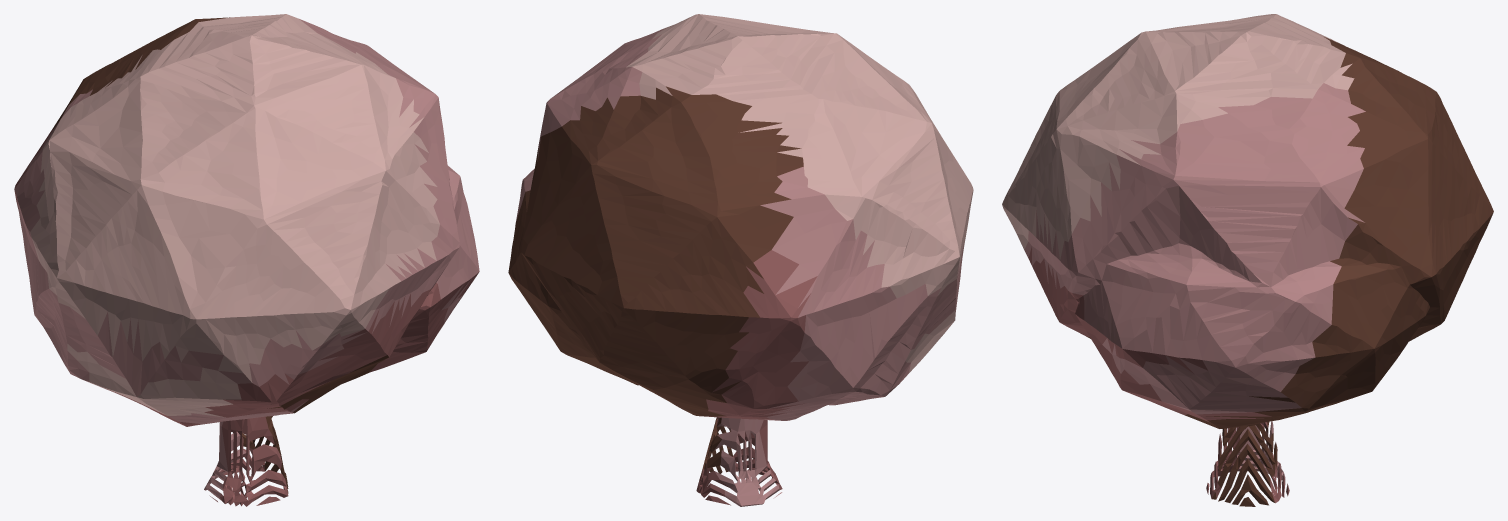
The model's file is pink_blossom.glb.
The picture shows the model from 3 angles, left to right: view 1: azimuth 30°, elevation 25°; view 2: azimuth 150°, elevation 25°; view 3: azimuth 270°, elevation 25°; orthographic projection.
Visible parts, largest first — view 1: geometry_0; view 2: geometry_0; view 3: geometry_0.
Part boxes in pixels (bbox=[...]): geometry_0: bbox=[14, 14, 479, 506]; geometry_0: bbox=[508, 14, 973, 506]; geometry_0: bbox=[1002, 14, 1493, 506].
Size of the model in its own units: 1.86 by 1.99 by 1.93.
